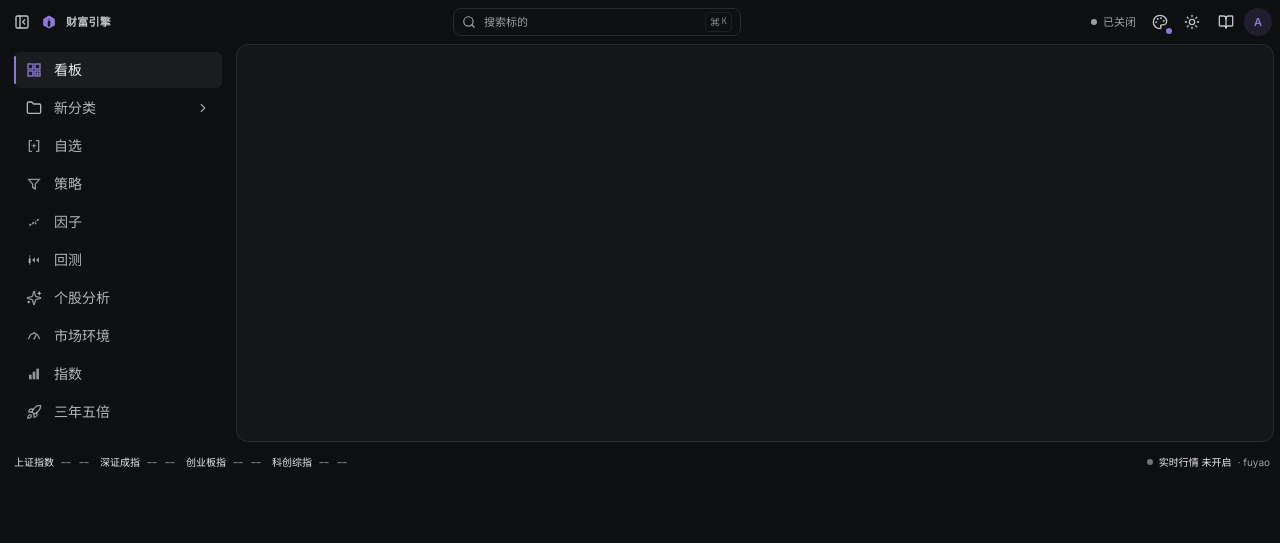
Test: shows a saved empty category and explains that it has no child menus
Click the button with aria-label "新分类" at {"x": 118, "y": 108}, box left=14, top=90, right=222, bottom=126
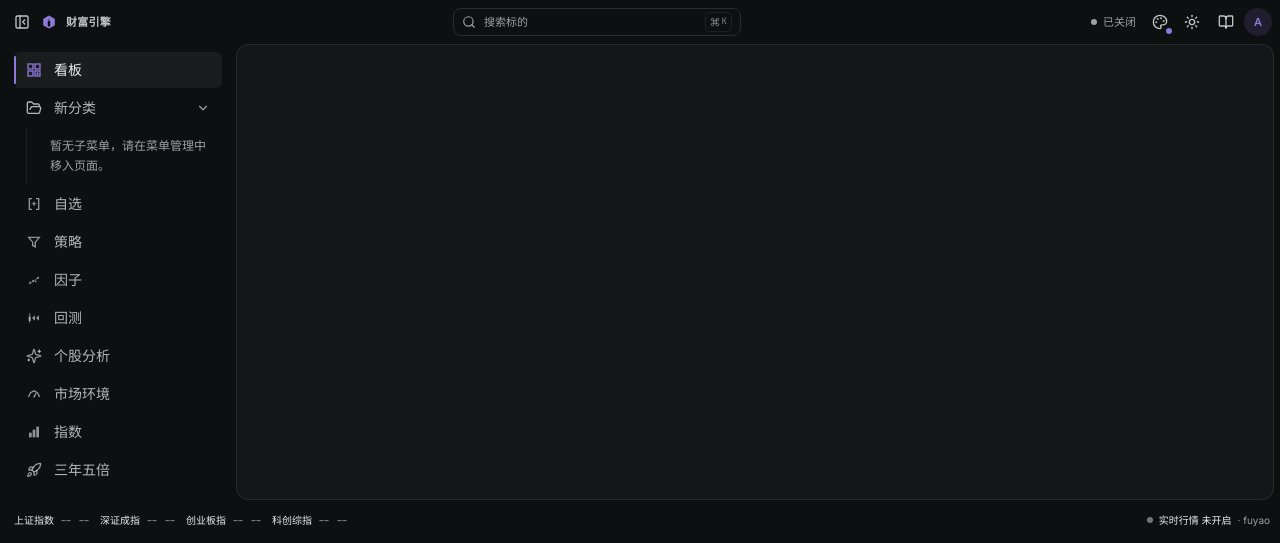
Expected: the text "暂无子菜单" is shown, left=50, top=138, right=206, bottom=173
